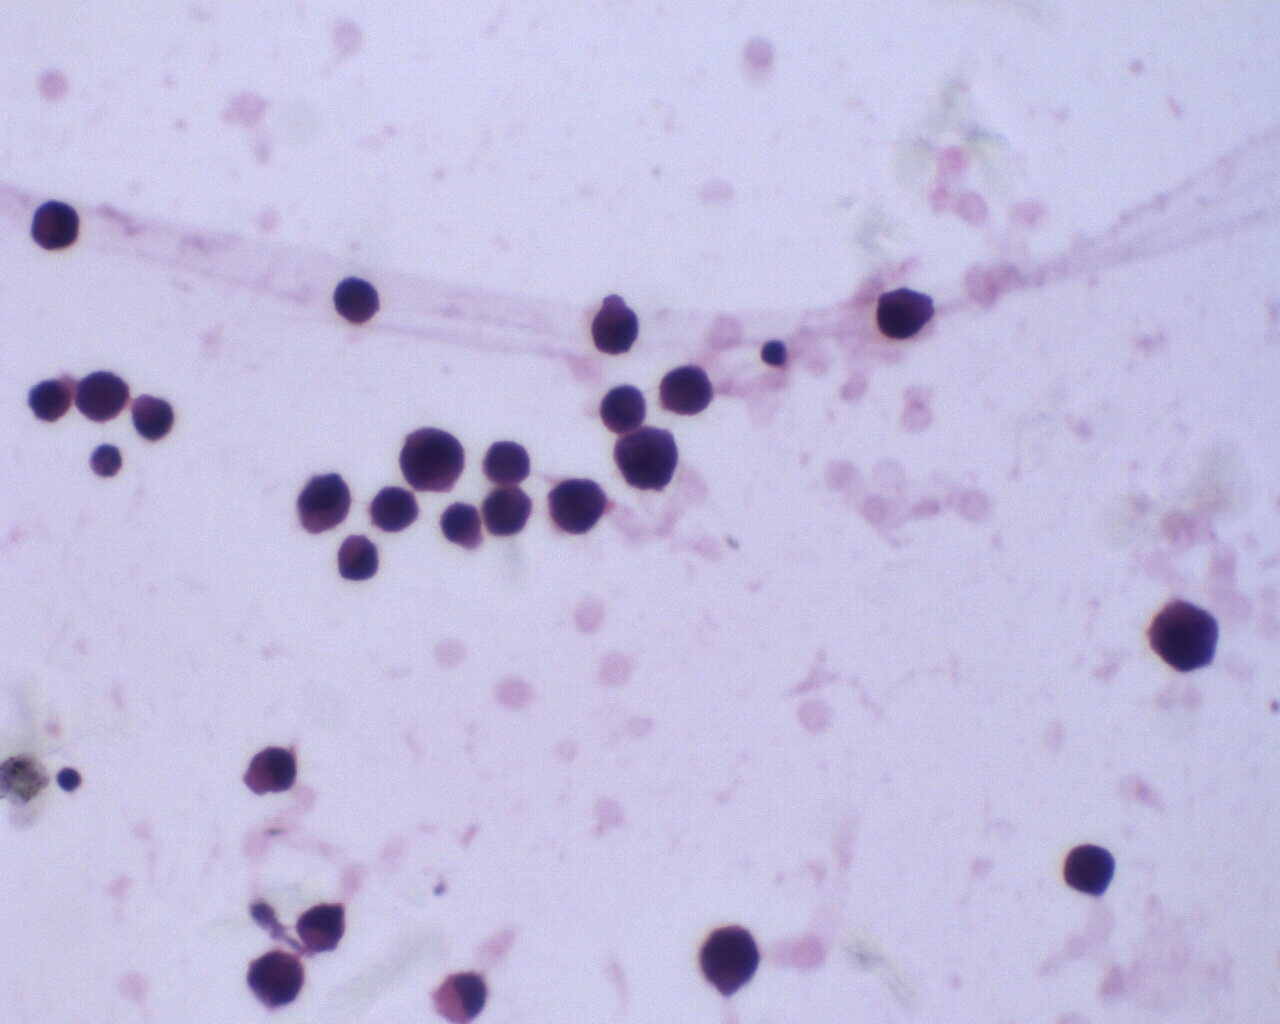ab: (1145, 596, 1221, 676), (396, 423, 464, 493), (700, 922, 761, 995), (546, 473, 610, 538), (246, 947, 306, 1013), (298, 469, 353, 536), (875, 283, 934, 343), (481, 481, 535, 539), (659, 363, 715, 417), (28, 196, 82, 253), (330, 273, 382, 329), (587, 303, 642, 356), (481, 437, 533, 489), (598, 383, 649, 437), (335, 531, 381, 583)
lymph: (759, 336, 790, 369)
